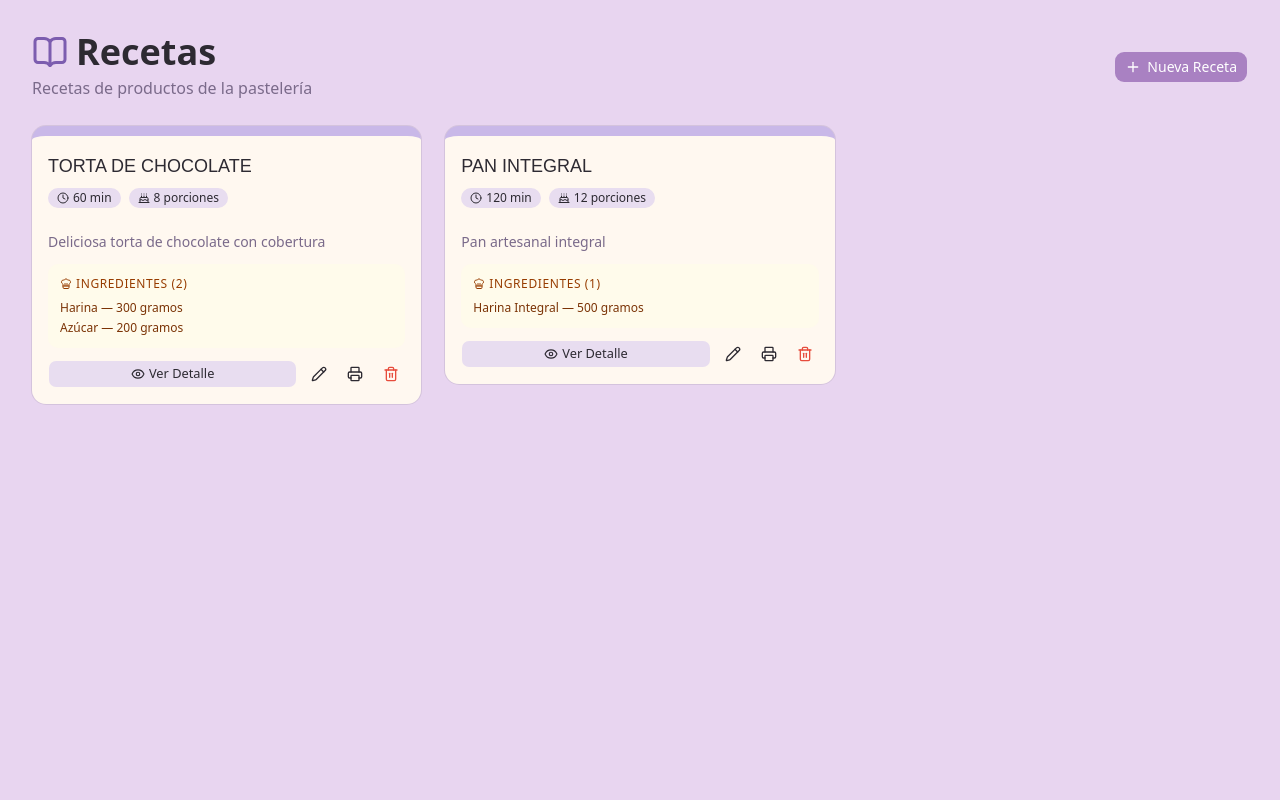
Test: Recetas Component › updates recipe via API on edit save
The width and height of the screenshot is (1280, 800).
Expected: the text "Torta de Chocolate" is shown, [48,156,252,176]
Click the button titled "Editar" below "Azúcar" at (319,374), box [305,360,333,388]
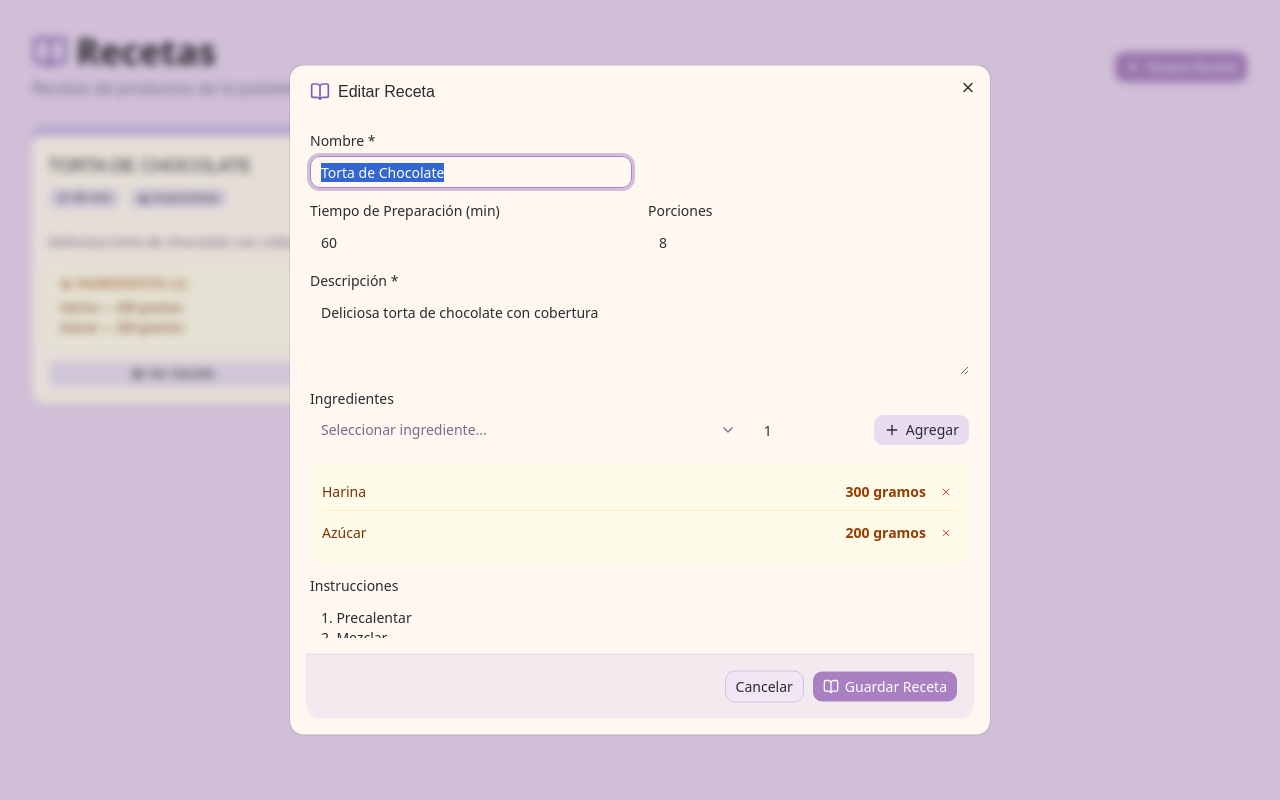
Expected: the field showing "Torta de Chocolate" is shown
Replace the text in the field showing "Torta de Chocolate" with "Torta de Chocolate Editada" at (471,172), box [310,156,632,188]
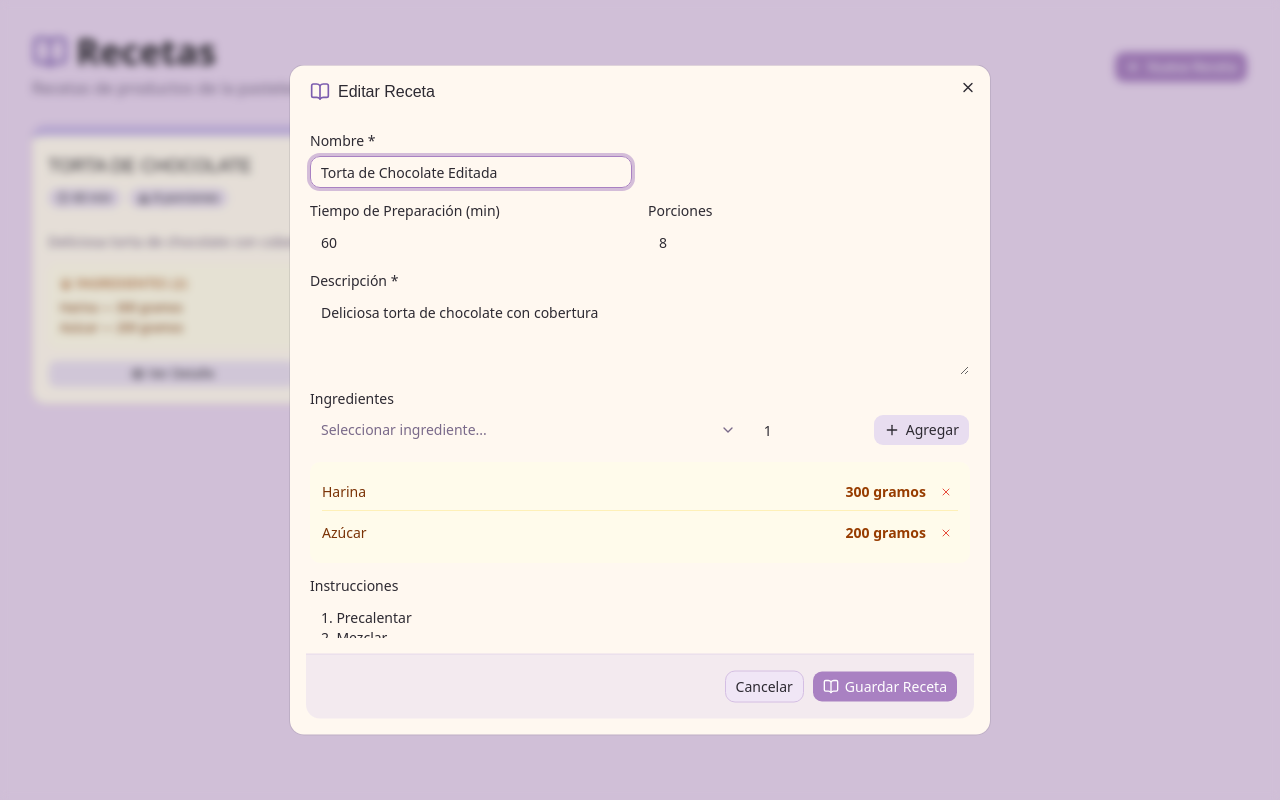
Click the button "Guardar Receta" at (885,686), box [812,670,958,702]
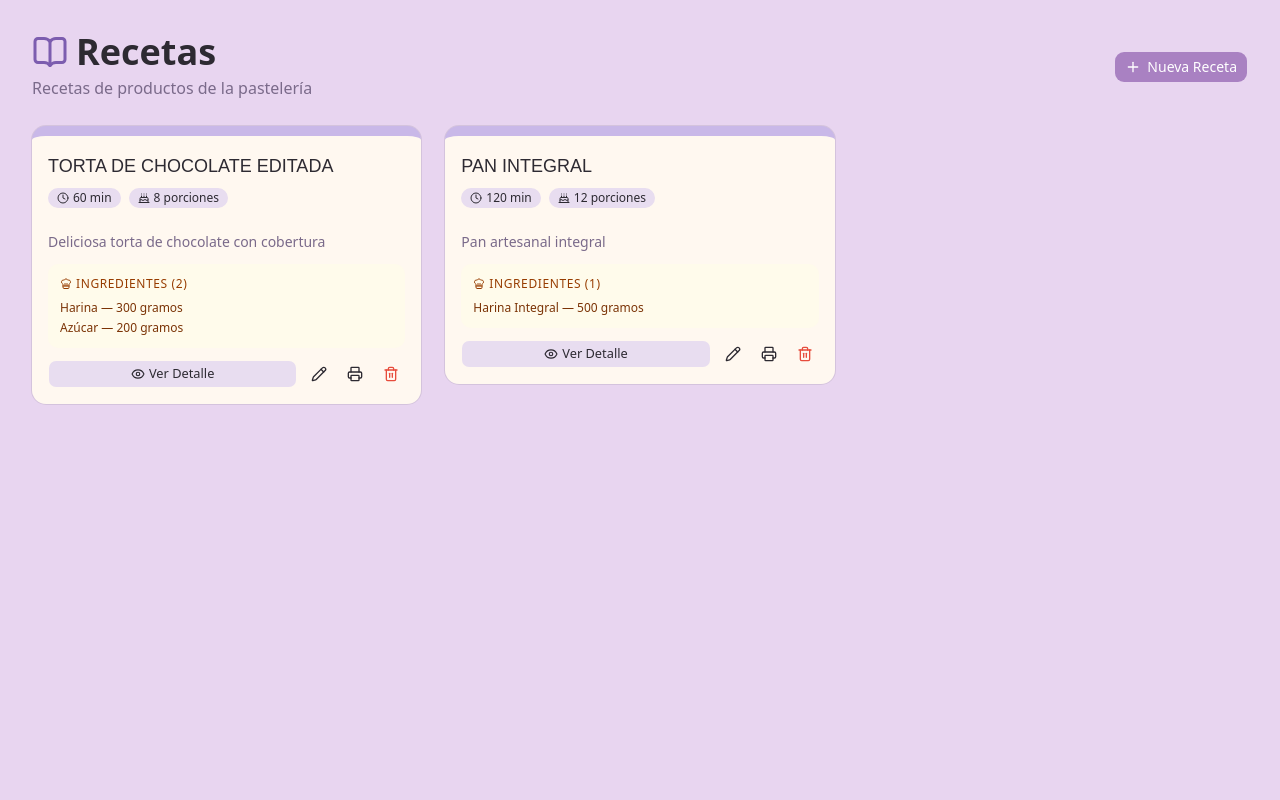
Expected: the text "Torta de Chocolate Editada" is shown, [48,156,333,176]
